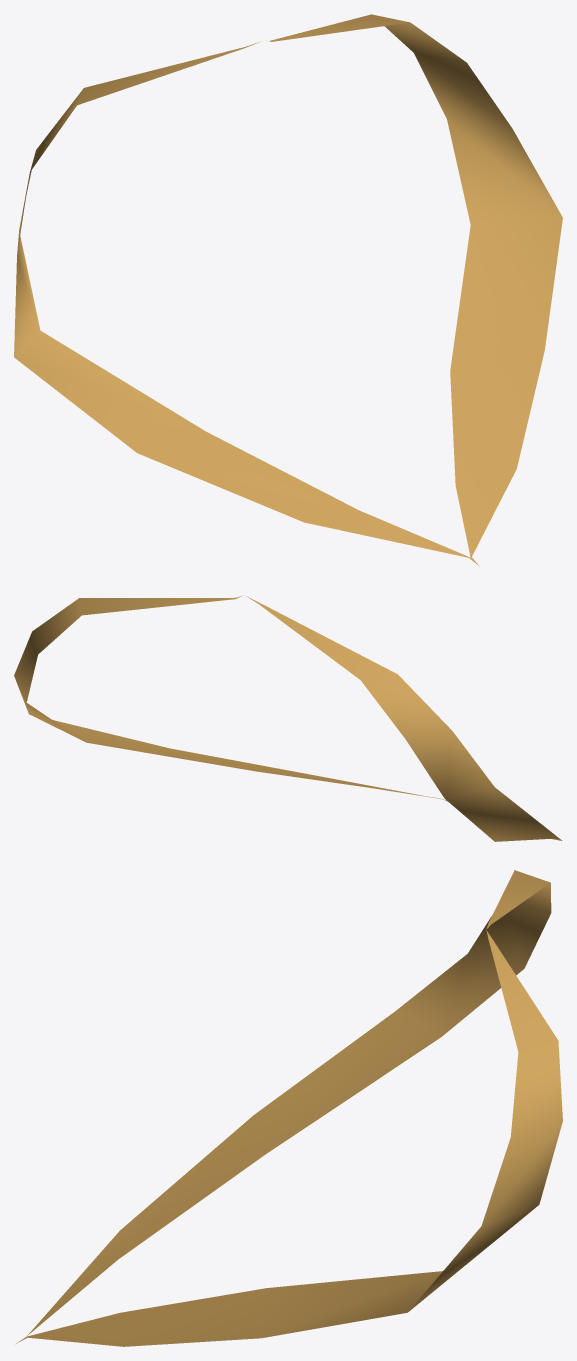
The model's file is abdomen_6_tergum.obj.
3 renders of one model, top to bottom at view 1: azimuth 30°, elevation 25°; view 2: azimuth 150°, elevation 25°; view 3: azimuth 270°, elevation 25°, orthographic. The views are drawn at different scales.
Bounding box in the file's own units: 0.0635 × 0.0406 × 0.0489.
